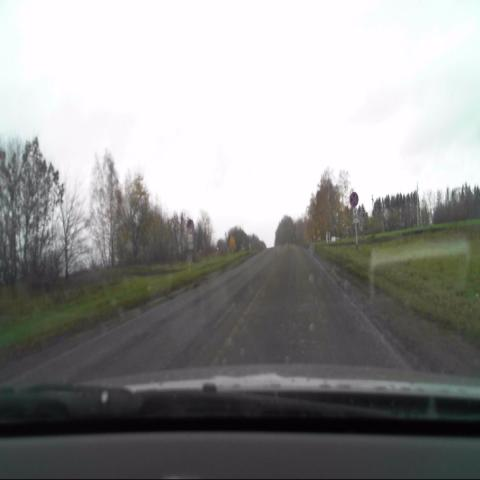3_27: (349, 191, 359, 208), (185, 219, 194, 234)
8_2_2: (352, 207, 358, 225)
